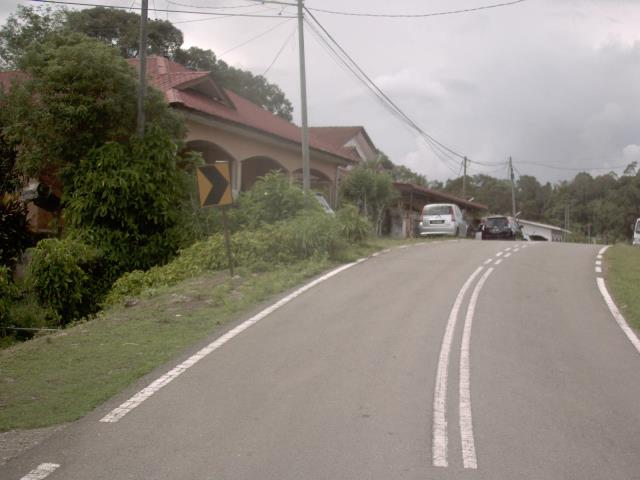traffic_sign: (188, 152, 242, 217)
